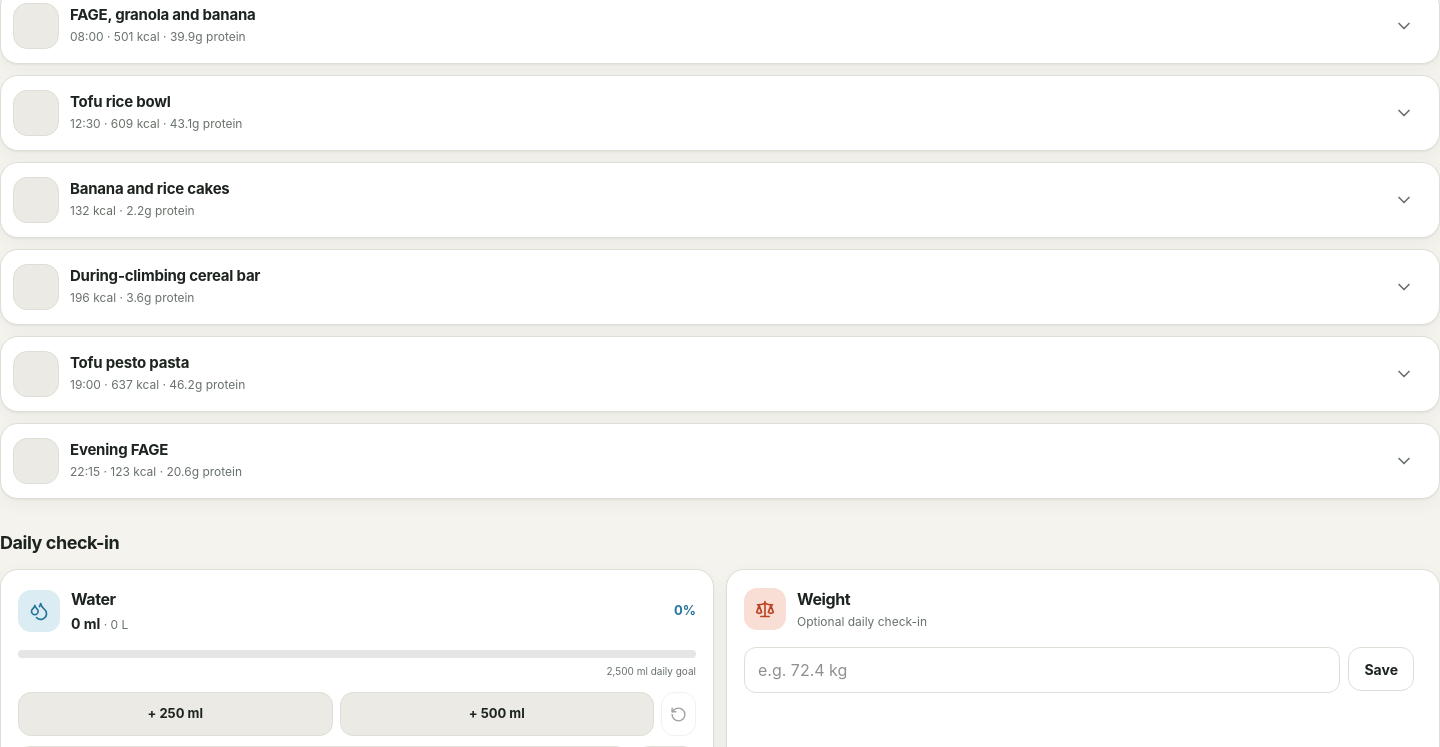
Test case: tracking interactions › shows the retained honey portion in the adjusted climbing plan
(page scrolled)
Click the heading "Evening FAGE".
click(119, 449)  # box [70,440,168,459]
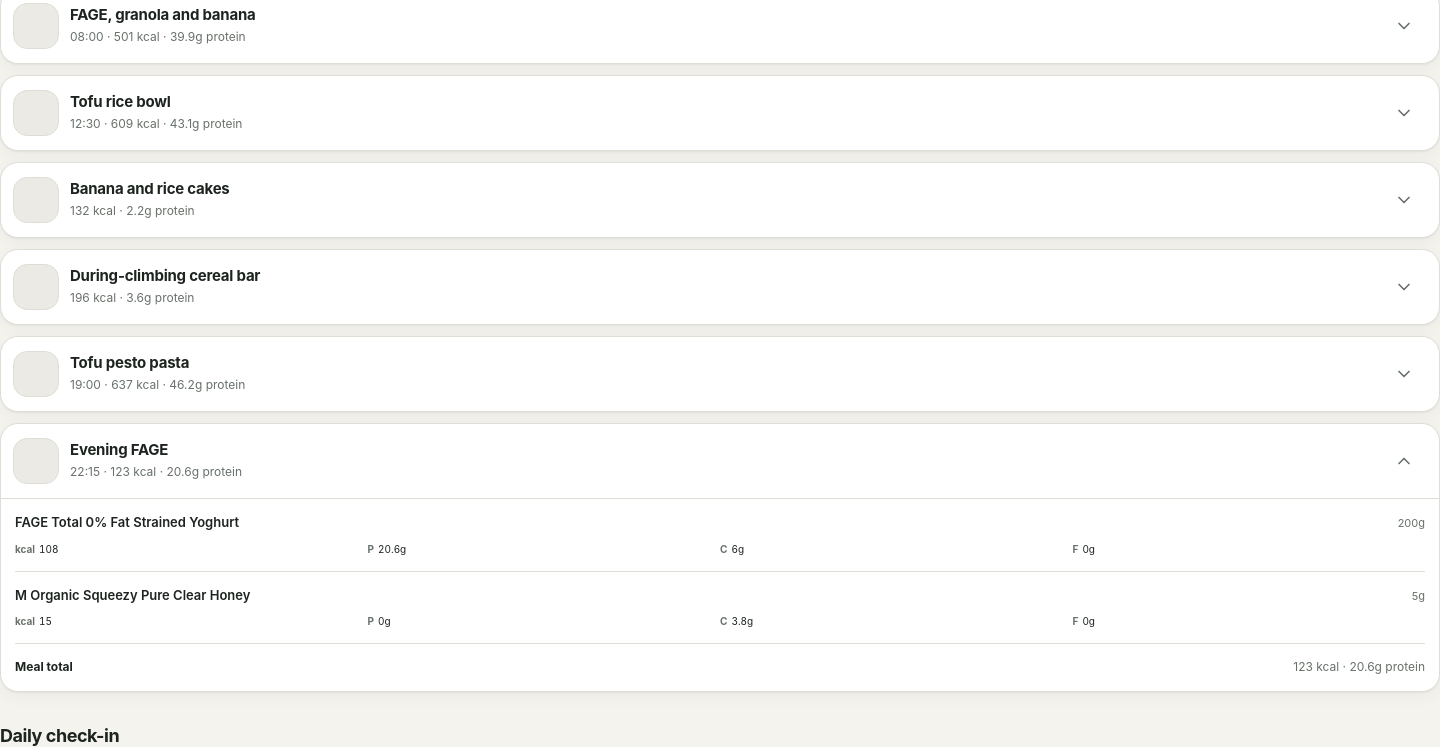
Now the text "M Organic Squeezy Pure Clear Honey" is shown, box [15,586,250,605]
Now the text "5g" is shown, box [1412,588,1425,604]
